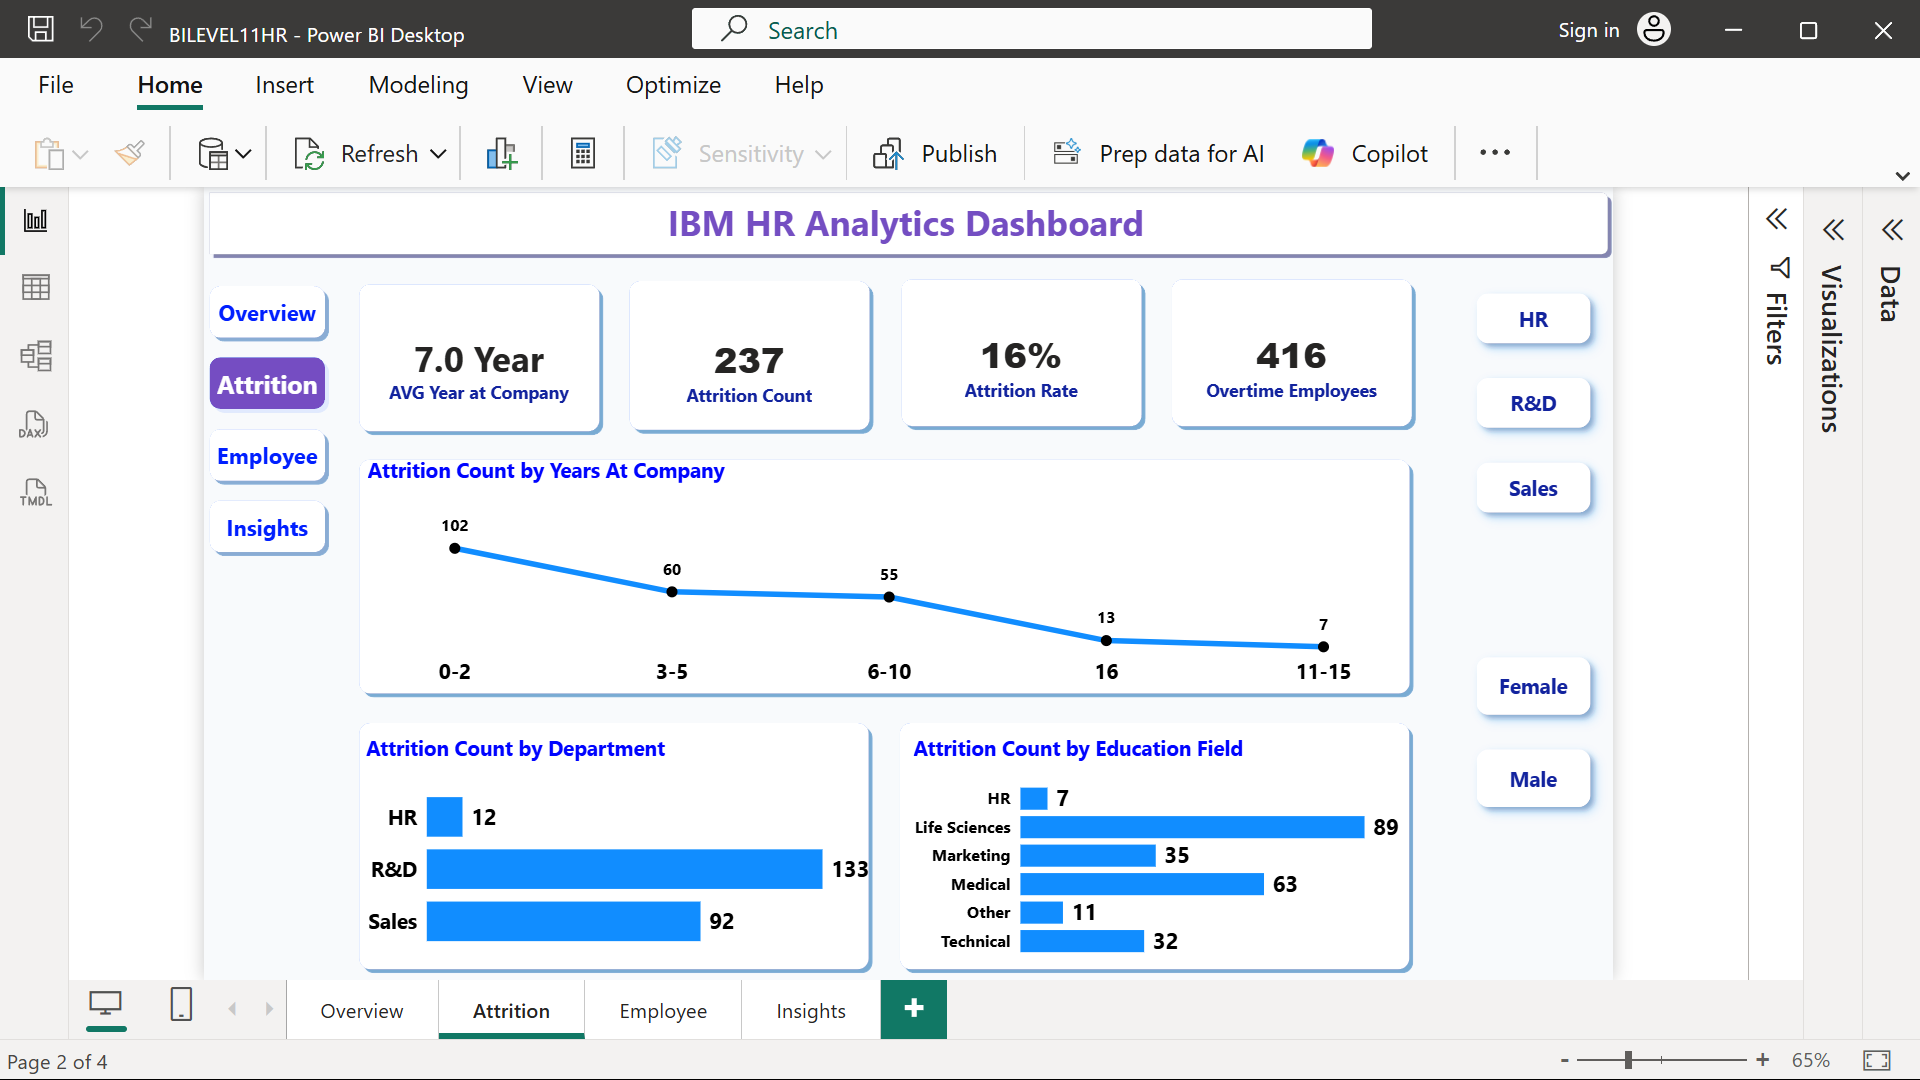

Layout of this report page (visuals, bound fields, positions):
{"tool":"powerbi","page":{"name":" Attrition","canvas":[1280,720],"ordinal":1},"visuals":[{"type":"shape","box":[136.2,242.9,964.2,222.6],"z":0},{"type":"pageNavigator","box":[0,84.6,115.9,252],"z":1000},{"type":"shape","box":[0,0,1280,66],"z":2000},{"type":"cardVisual","fields":{"Data":["Dax.Attrition Count"]},"box":[391.3,93.5,206.5,132.6],"z":3000},{"type":"shape","box":[382,80.1,228.2,145.4],"z":4000},{"type":"shape","box":[874,79.5,228.2,143.5],"z":5000},{"type":"shape","box":[135.9,82.6,228.3,143.5],"z":6000},{"type":"shape","box":[628,78.9,228.2,143.5],"z":7000},{"type":"cardVisual","fields":{"Data":["Dax.Attrition Count"]},"box":[392.8,101.1,206.5,132.6],"z":8000},{"type":"cardVisual","fields":{"Data":["Dax.Attrition Rate"]},"box":[638.5,95.7,206.1,132.5],"z":9000},{"type":"cardVisual","fields":{"Data":["Dax.OT Employees Count"]},"box":[884.9,96,206.5,132.6],"z":10000},{"type":"cardVisual","fields":{"Data":["Dax.AVG Year at Company"]},"box":[146.7,98.5,206.5,132.6],"z":11000},{"type":"textbox","box":[8.7,4.3,1256.5,56.5],"z":12000},{"type":"shape","box":[136.2,482.1,472.9,233.7],"z":13000},{"type":"advancedSlicerVisual","fields":{"Values":["hr data.Department"]},"box":[1135.3,75.4,145.4,242.9],"z":14000},{"type":"shape","box":[627.5,482.1,472.9,233.7],"z":15000},{"type":"advancedSlicerVisual","fields":{"Values":["hr data.Gender"]},"box":[1135.3,406.6,145.4,178.5],"z":16000},{"type":"lineChart","title":"Attrition Count by Years At Company","fields":{"Y":["Dax.Attrition Count"],"Category":["hr data.Company group"]},"box":[143.5,244.7,956.8,219],"z":17000},{"type":"clusteredBarChart","fields":{"Category":["hr data.Department"],"Y":["Dax.Attrition Count"]},"box":[141.7,496.8,467.4,213.4],"z":18000},{"type":"clusteredBarChart","title":"Attrition Count by Education Field","fields":{"Y":["Dax.Attrition Count"],"Category":["hr data.EducationField"]},"box":[638.5,496.8,458.2,213.4],"z":19000}]}

Visuals, with their boxes on the page's 1280x720 design canvas (x1, y1, x2, y2). These are canvas units, not pixel positions in the 1920x1080 screenshot, which may show the page scaled, cropped or inside an application window:
shape: 136:243:1100:466
pageNavigator: 0:85:116:337
shape: 0:0:1280:66
cardVisual - Dax.Attrition Count: 391:94:598:226
shape: 382:80:610:226
shape: 874:80:1102:223
shape: 136:83:364:226
shape: 628:79:856:222
cardVisual - Dax.Attrition Count: 393:101:599:234
cardVisual - Dax.Attrition Rate: 638:96:845:228
cardVisual - Dax.OT Employees Count: 885:96:1091:229
cardVisual - Dax.AVG Year at Company: 147:98:353:231
textbox: 9:4:1265:61
shape: 136:482:609:716
advancedSlicerVisual - hr data.Department: 1135:75:1281:318
shape: 628:482:1100:716
advancedSlicerVisual - hr data.Gender: 1135:407:1281:585
"Attrition Count by Years At Company" lineChart: 144:245:1100:464
clusteredBarChart - hr data.Department x Dax.Attrition Count: 142:497:609:710
"Attrition Count by Education Field" clusteredBarChart: 638:497:1097:710
